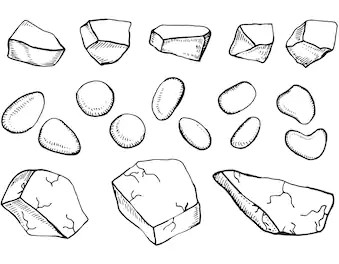stone: (211, 160, 337, 247), (111, 152, 203, 247), (1, 166, 91, 240), (143, 14, 218, 68), (4, 13, 68, 70), (78, 10, 138, 68), (282, 13, 339, 70), (225, 14, 279, 66), (1, 86, 48, 137), (142, 71, 189, 122), (273, 80, 327, 123), (211, 74, 262, 117), (34, 115, 86, 156), (279, 125, 335, 161), (106, 110, 153, 152), (74, 74, 121, 116), (173, 112, 218, 154), (224, 114, 270, 153)
